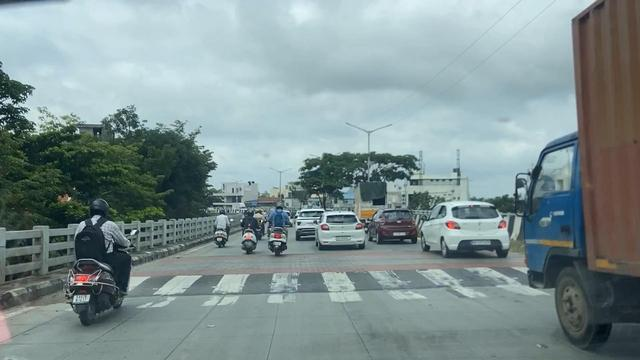LMV: (71, 208, 118, 325), (443, 203, 501, 253), (314, 209, 362, 246), (370, 207, 413, 239), (269, 197, 288, 253), (213, 207, 232, 253), (240, 211, 257, 253)
SpeedBump: (141, 255, 486, 306)
